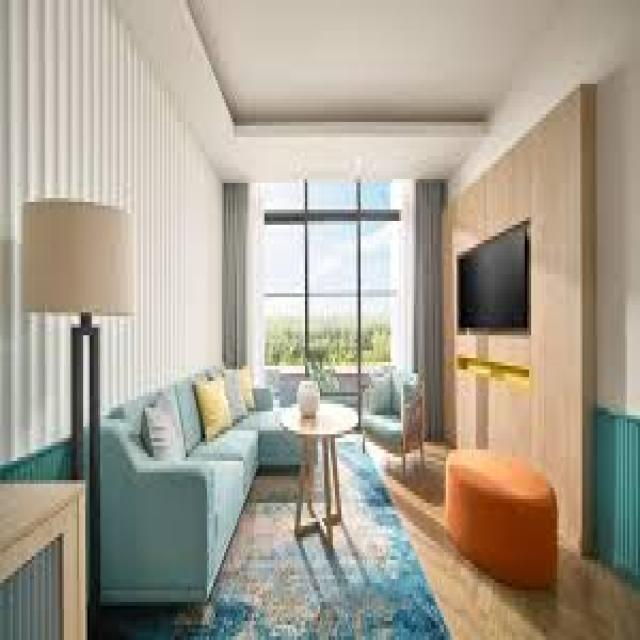Sofa: (100, 350, 269, 606)
Table: (279, 380, 358, 554)
tv: (454, 216, 533, 342)
window: (220, 180, 442, 362)
